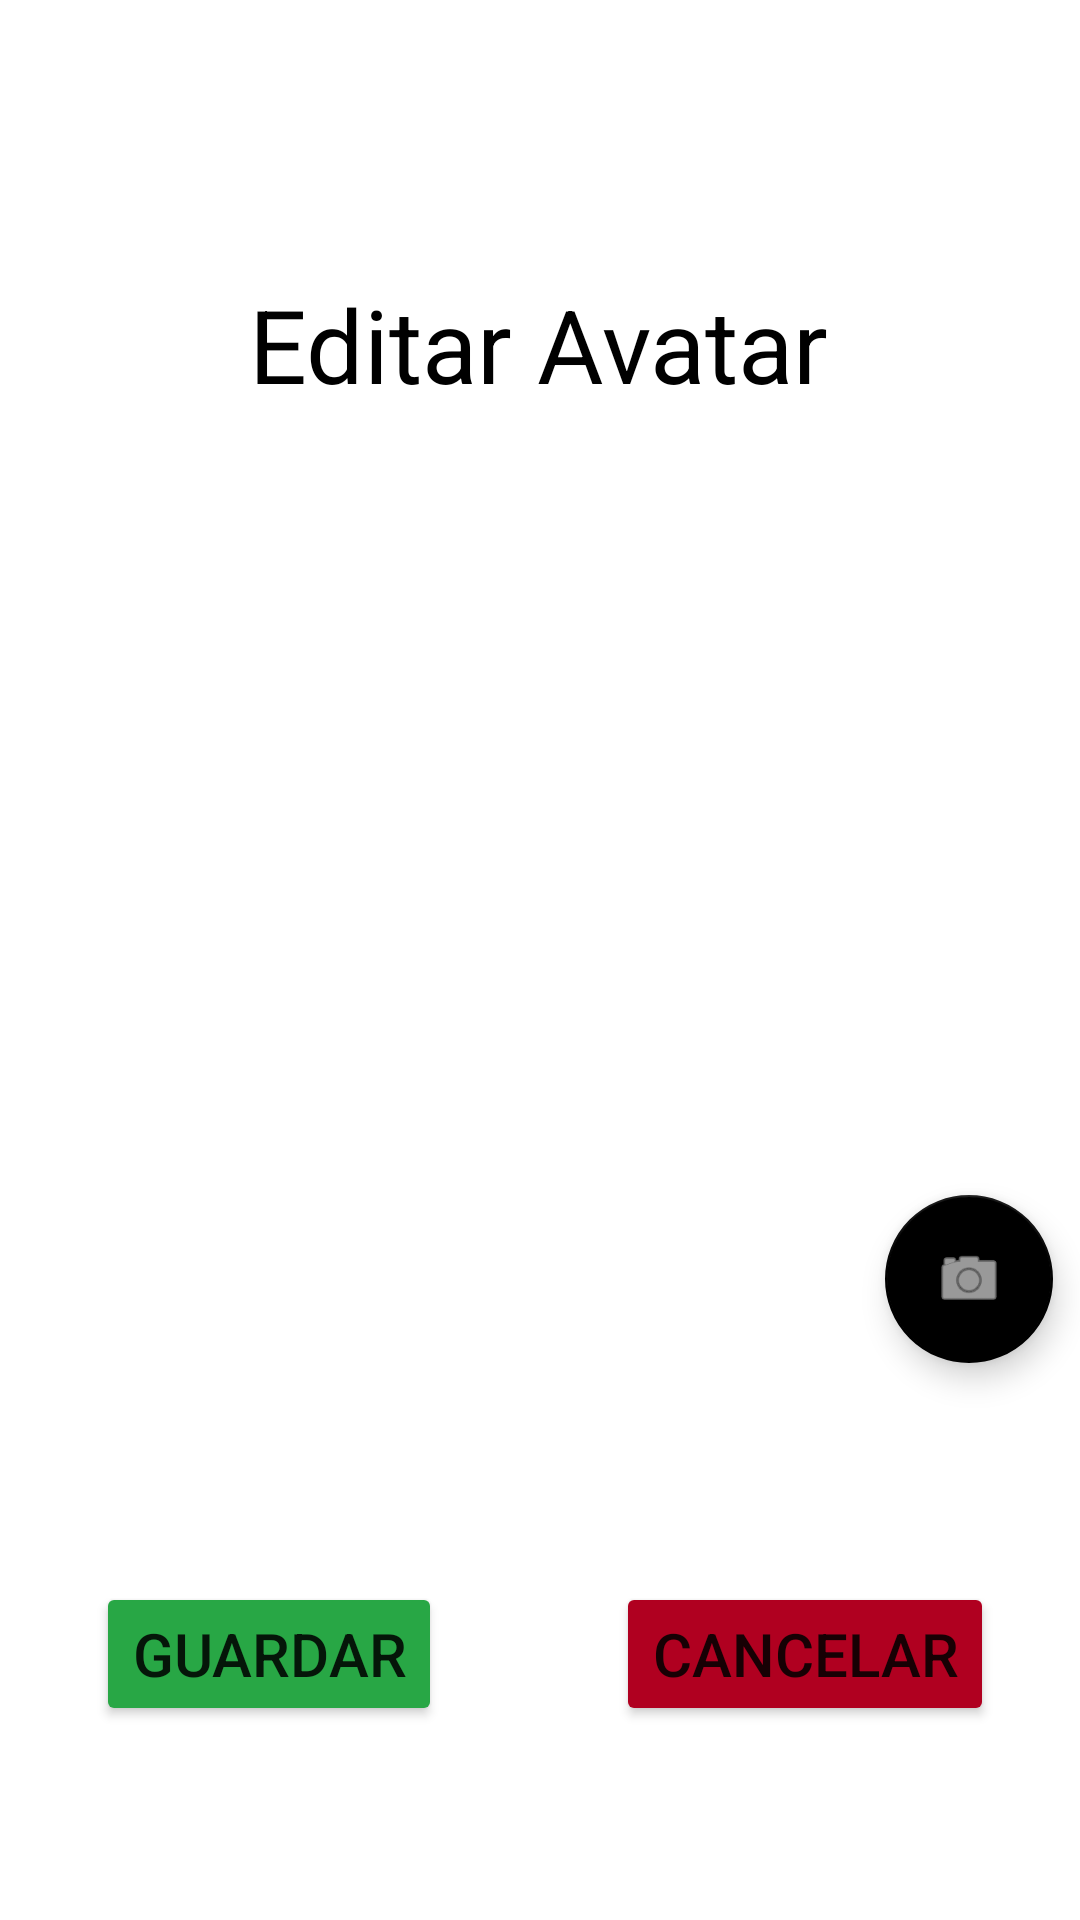

Icons on this 1080w x 1920h Android screen, each with its box as (x1, y1, x2, y2):
camera: (885, 1195, 1053, 1363)
